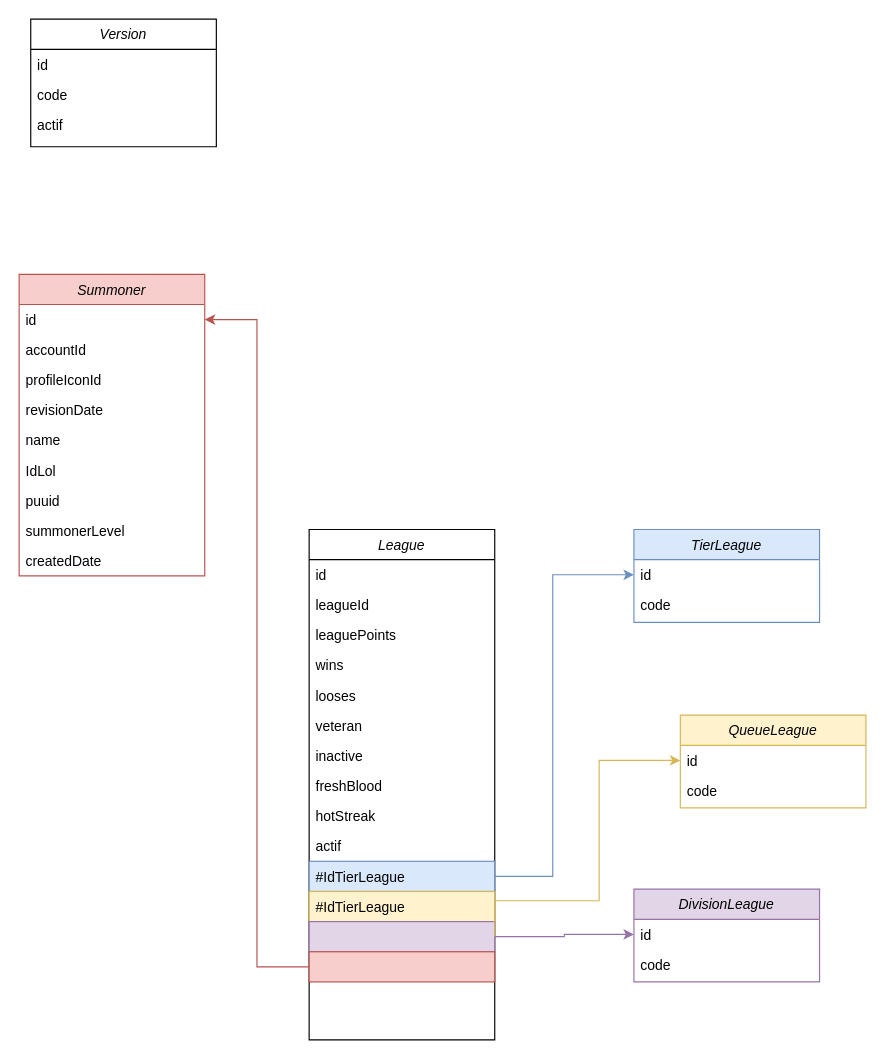
Some shapes in this 885 by 1059 pixel diagram are drawn without their labels. Here are the shapes that lost their labels. From the top down, the centre of each, then its label:
At (x=401, y=936): "#IdDivisionLeague".
At (x=401, y=966): "#idSummoner".
